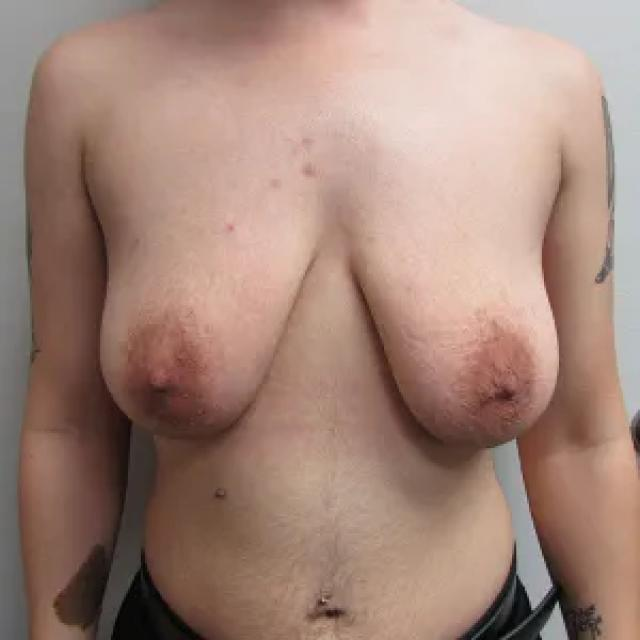Seno ileso: (91, 168, 330, 460), (334, 168, 568, 466)
